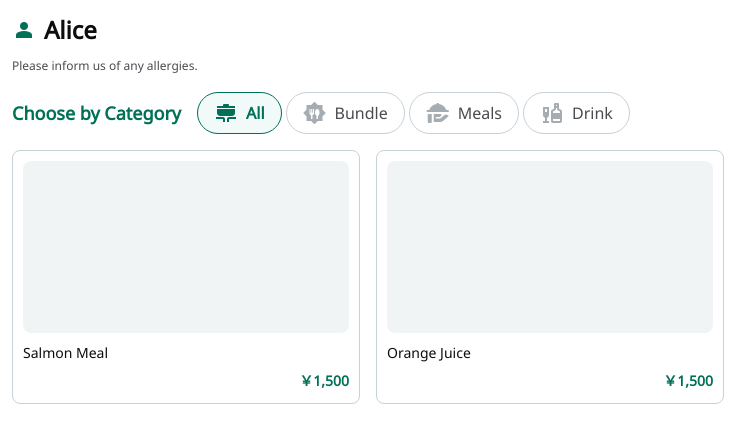
Test case: MealSelectionFlow › category filtering › filters by category id (meals) when Meals chip clicked
This screenshot has width=741, height=421.
Click the button "Meals" at (464, 113), box [409,92,519,134]
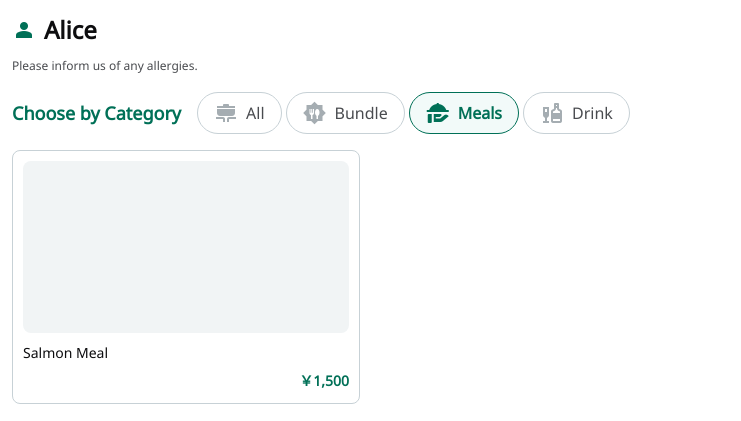
Check: the text "Salmon Meal" is shown, box [23,343,108,362]
Check: the button "Orange Juice" is gone
